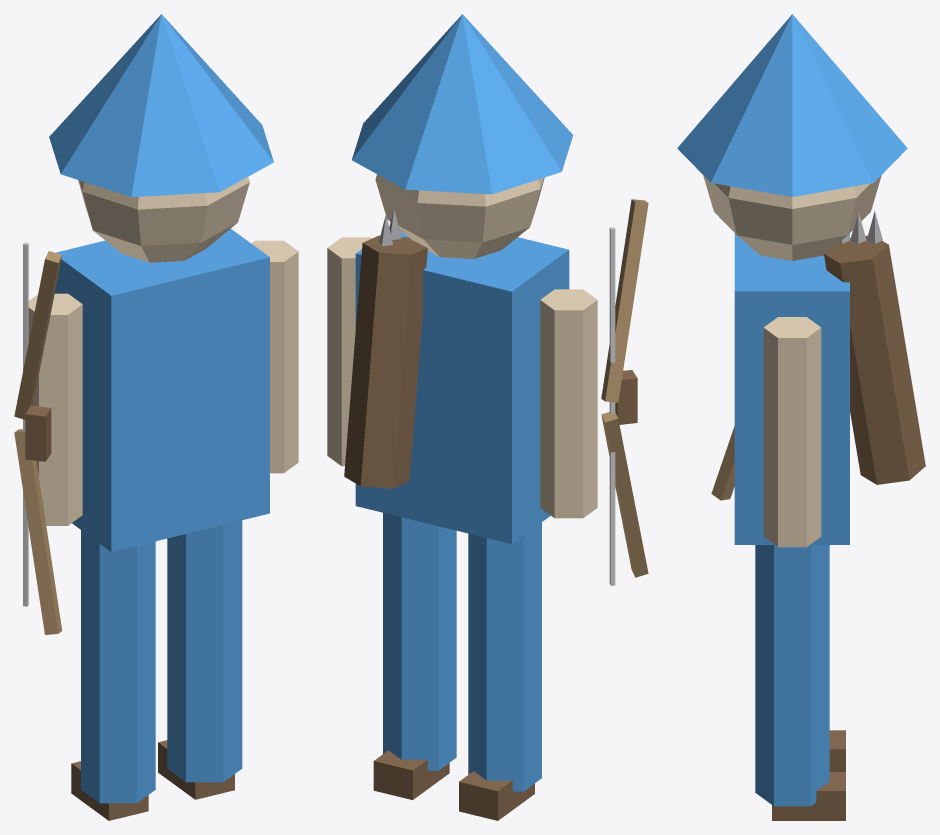
File: ranged_blue.glb
3 views of the same model, side by side, from view 1: azimuth 30°, elevation 25°; view 2: azimuth 150°, elevation 25°; view 3: azimuth 270°, elevation 25° (orthographic).
Parts seen in each view (by area): view 1: Ranged_blue; view 2: Ranged_blue; view 3: Ranged_blue.
Part boxes in pixels (bbox=[...]): Ranged_blue: bbox=[14, 14, 298, 820]; Ranged_blue: bbox=[327, 14, 648, 820]; Ranged_blue: bbox=[677, 14, 925, 820].
Size of the model in its own units: 0.3983 by 1.04 by 0.302.
